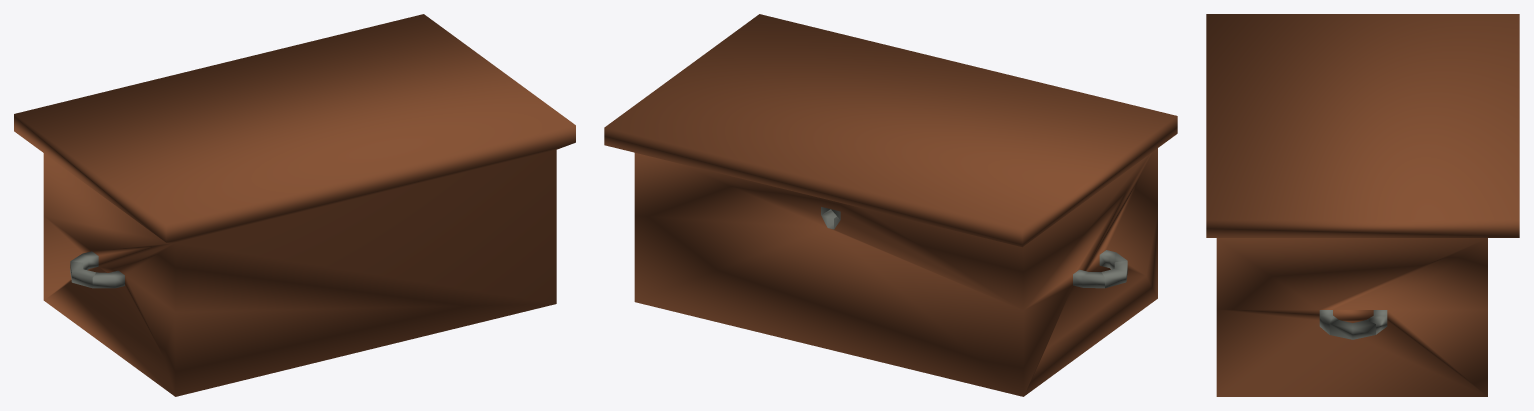
File: chest2.fbx
3 views of the same model, side by side, from view 1: azimuth 30°, elevation 25°; view 2: azimuth 150°, elevation 25°; view 3: azimuth 270°, elevation 25° (orthographic). The views are drawn at different scales.
Visible parts, largest first — view 1: Chest; view 2: Chest; view 3: Chest.
Boxes of the visible parts, box(x1,y1,x2,y2) form: Chest: box(14, 14, 575, 396); Chest: box(604, 14, 1177, 396); Chest: box(1206, 14, 1519, 396).
Bounding box in the file's own units: 585 × 219 × 338.
